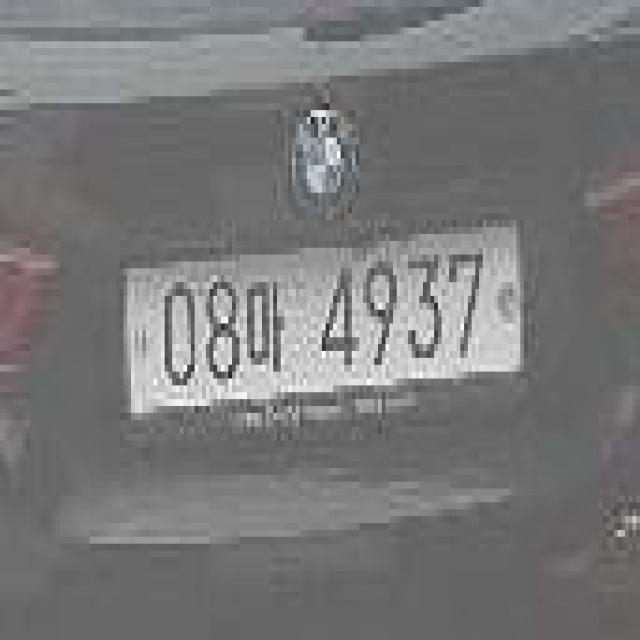illegal_plate: (123, 229, 537, 437)
